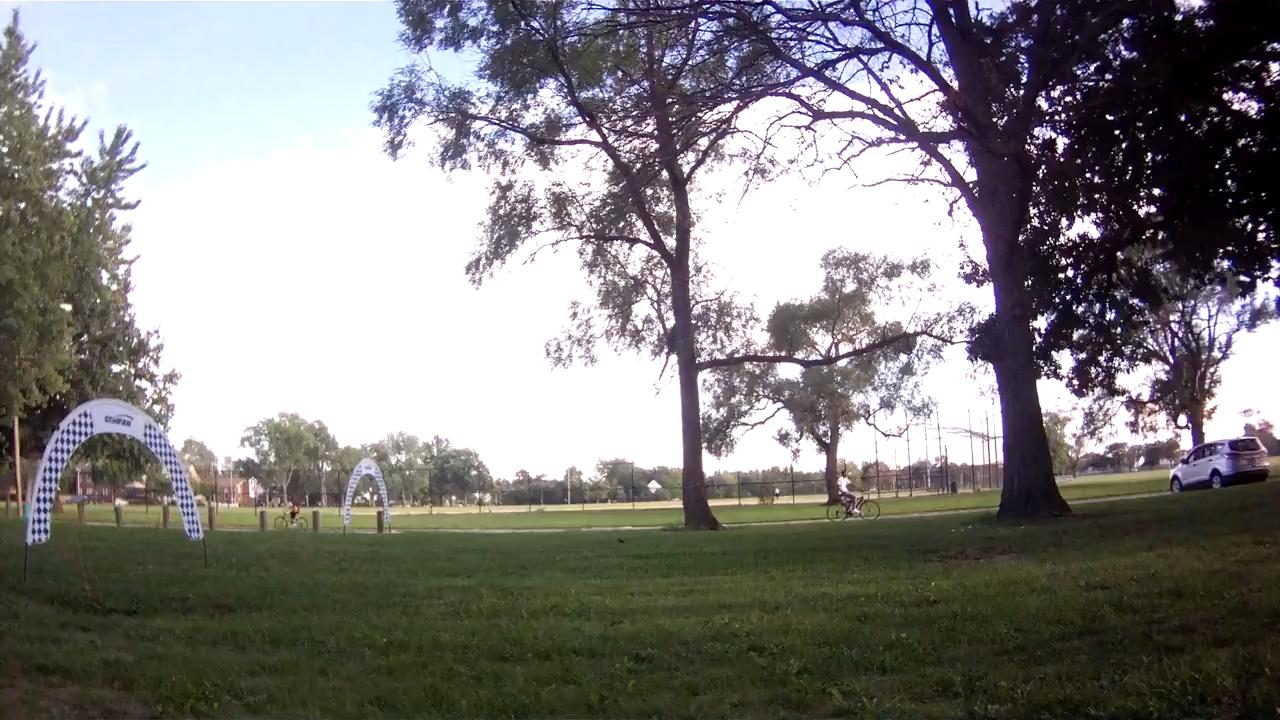gate: (25, 398, 210, 545)
